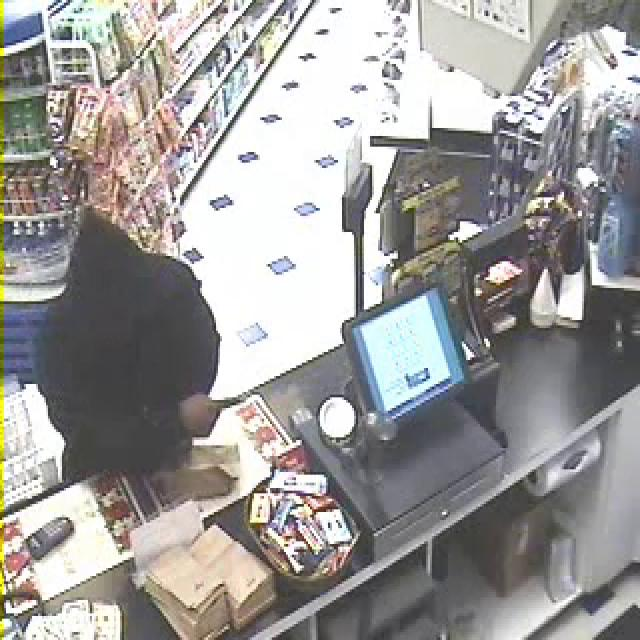robbery: (48, 64, 278, 640)
